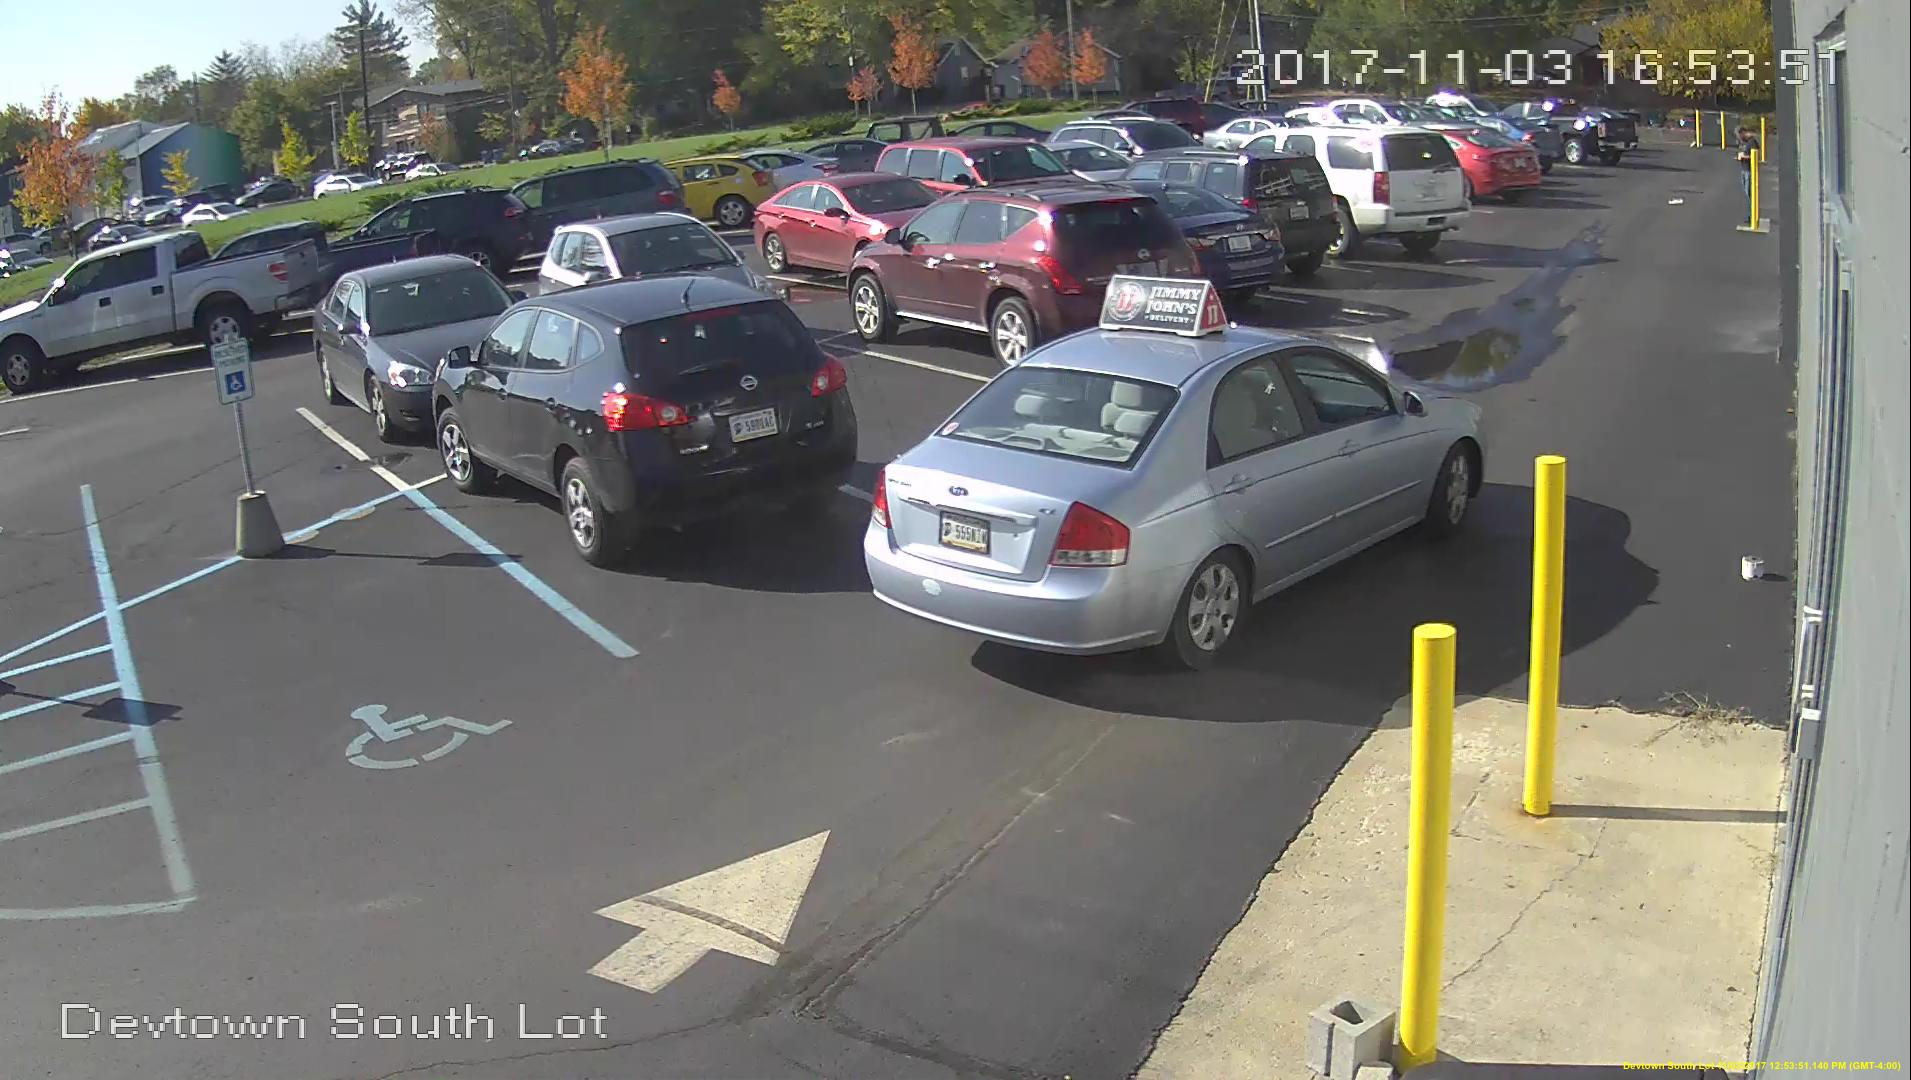jimmy_johns: (1095, 269, 1234, 344)
